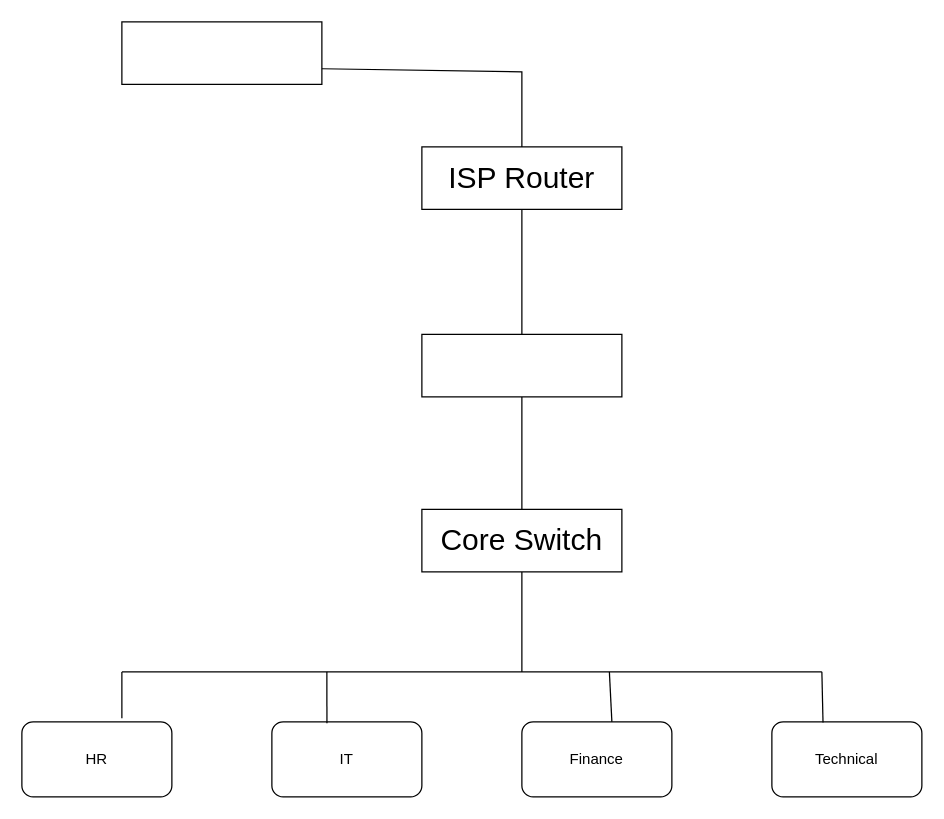
This 944x819 diagram has some shape labels left out. The centre of each missing label's shape, as x and y in pixels:
"Firewall" goes at point (521, 365).
"Internet" goes at point (221, 52).
